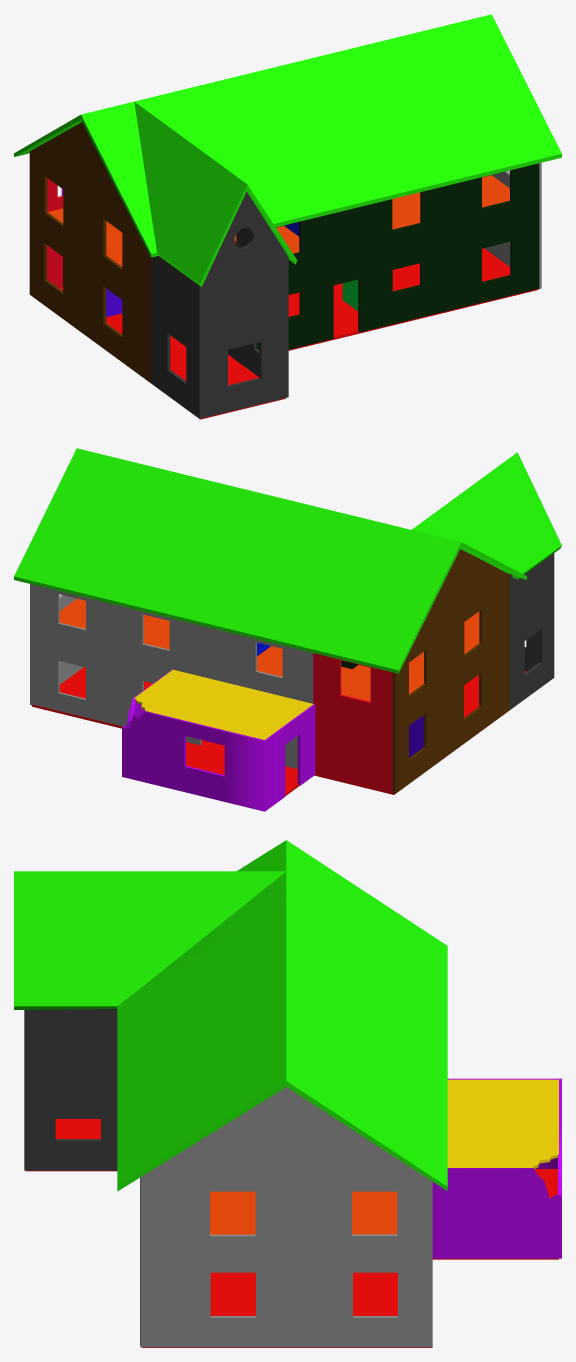
Rendered from House3.FBX.
3 views of the same model, one above another, from view 1: azimuth 30°, elevation 25°; view 2: azimuth 150°, elevation 25°; view 3: azimuth 270°, elevation 25° (orthographic). The views are drawn at different scales.
Visible parts, largest first — view 1: Roof002, Wall_Outer003, Wall_Outer005, Wall_Outer004, Floor001, Floor002, Wall_Outer002, Wall_Outer006; view 2: Roof002, Wall_Outer007, Wall_Outer004, Wall_Outer001, Wall_Outer002, Roof001, Wall_Outer005, Floor002, Floor001, Wall_Outer006, Wall_Inside004; view 3: Roof002, Wall_Outer006, Wall_Outer005, Wall_Outer001, Roof001, Floor001, Floor002.
Part boxes in pixels (bbox=[...]): Roof002: bbox=[14, 14, 561, 286]; Wall_Outer003: bbox=[256, 163, 539, 350]; Wall_Outer005: bbox=[151, 192, 288, 418]; Wall_Outer004: bbox=[29, 122, 151, 382]; Floor001: bbox=[36, 248, 538, 419]; Floor002: bbox=[48, 175, 509, 266]; Wall_Outer002: bbox=[47, 178, 63, 287]; Wall_Outer006: bbox=[484, 162, 541, 288]; Roof002: bbox=[14, 448, 561, 673]; Wall_Outer007: bbox=[32, 584, 313, 768]; Wall_Outer004: bbox=[392, 549, 509, 793]; Wall_Outer001: bbox=[122, 669, 315, 811]; Wall_Outer002: bbox=[313, 653, 392, 793]; Roof001: bbox=[134, 669, 313, 739]; Wall_Outer005: bbox=[508, 553, 554, 710]; Floor002: bbox=[59, 598, 479, 701]; Floor001: bbox=[32, 667, 526, 795]; Wall_Outer006: bbox=[30, 584, 83, 705]; Wall_Inside004: bbox=[409, 715, 423, 757]; Roof002: bbox=[14, 840, 447, 1191]; Wall_Outer006: bbox=[140, 1087, 432, 1347]; Wall_Outer005: bbox=[24, 1009, 117, 1170]; Wall_Outer001: bbox=[432, 1078, 561, 1258]; Roof001: bbox=[447, 1079, 558, 1168]; Floor001: bbox=[26, 1119, 558, 1347]; Floor002: bbox=[210, 1191, 397, 1234].
Bounding box in the file's own units: 1771 × 941 × 1702.
